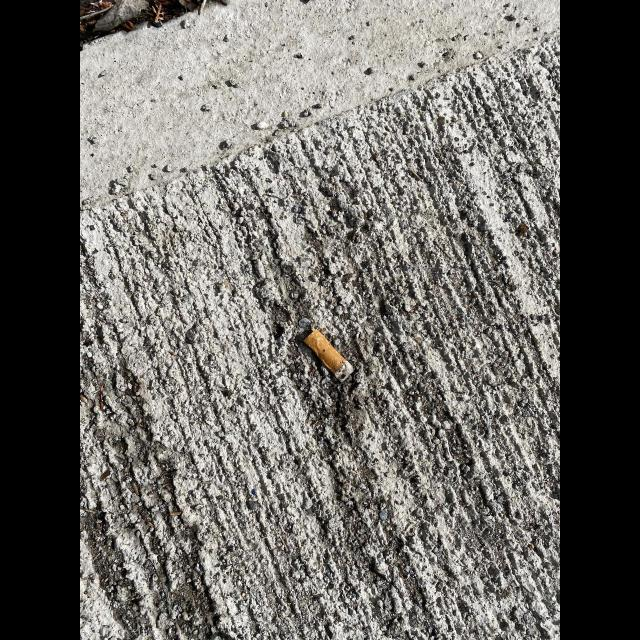cigarette: (303, 329, 354, 383)
